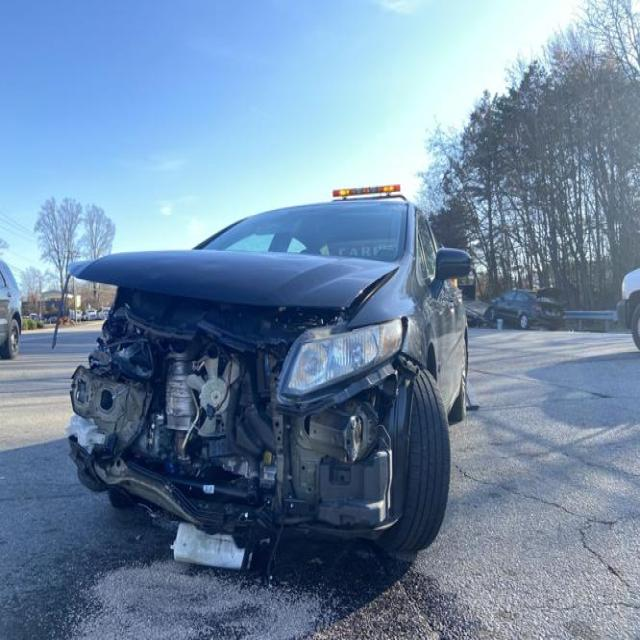Severe Damage: (61, 246, 439, 591)
